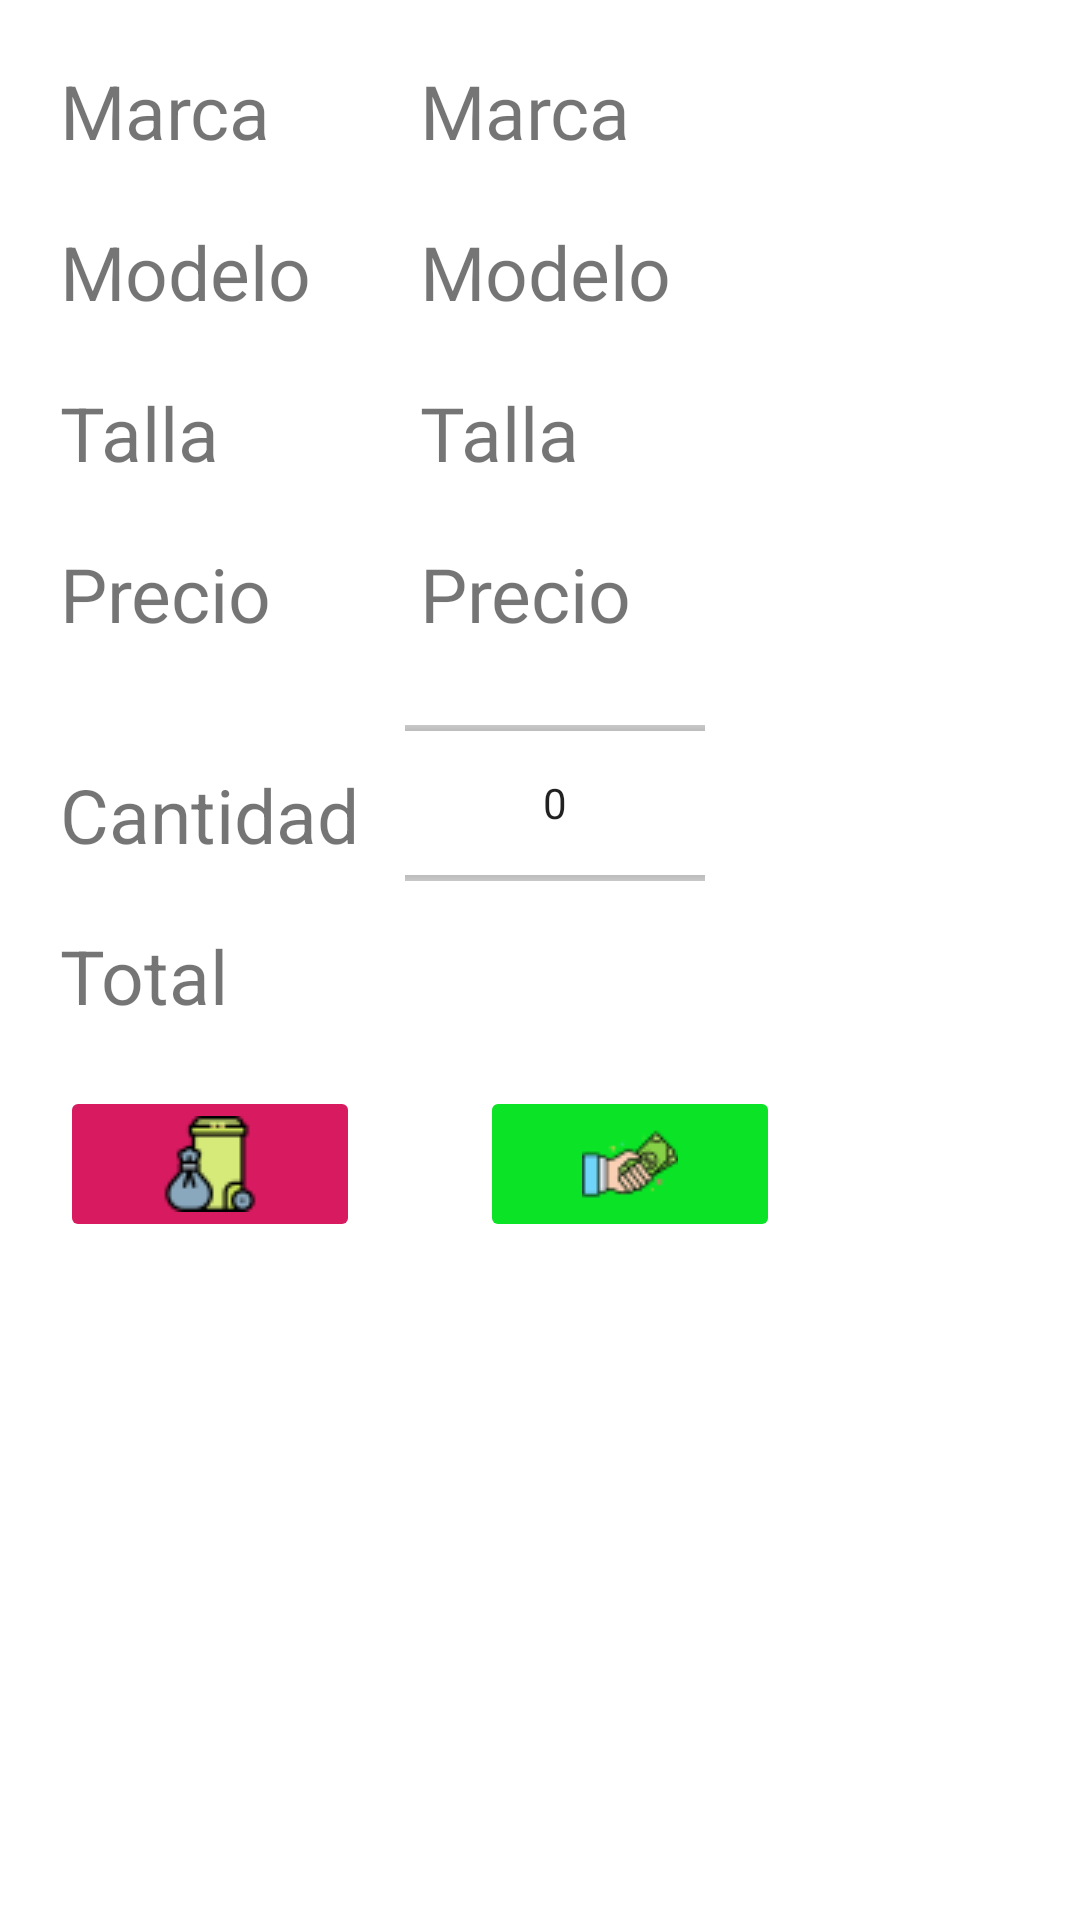

Named icons in this screenshot (1080 × 1920) and their bounding boxes, (left=x1, top=y1, right=x2, bottom=y2):
cash: (left=492, top=1104, right=768, bottom=1224)
garbage: (left=72, top=1104, right=348, bottom=1224)
